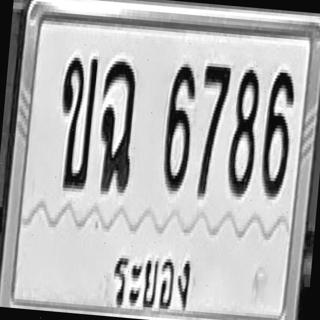A02: (54, 54, 98, 190)
A09: (94, 57, 140, 193)
N06: (160, 59, 198, 192), (258, 68, 296, 198)
N07: (194, 62, 231, 198)
N08: (225, 66, 261, 198)
P53: (102, 235, 198, 320)
